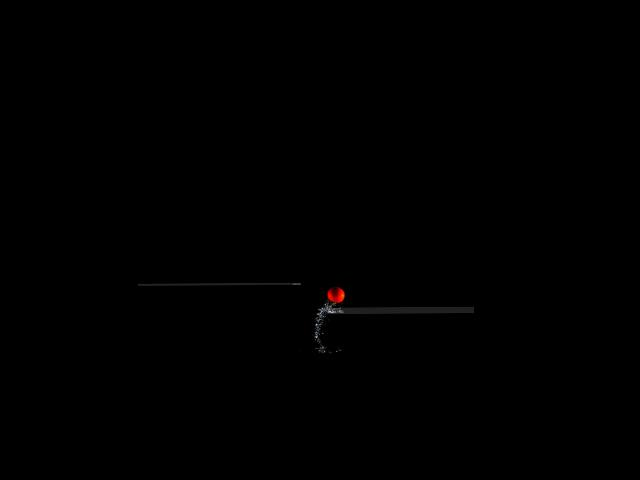tomato: (327, 287, 345, 303)
